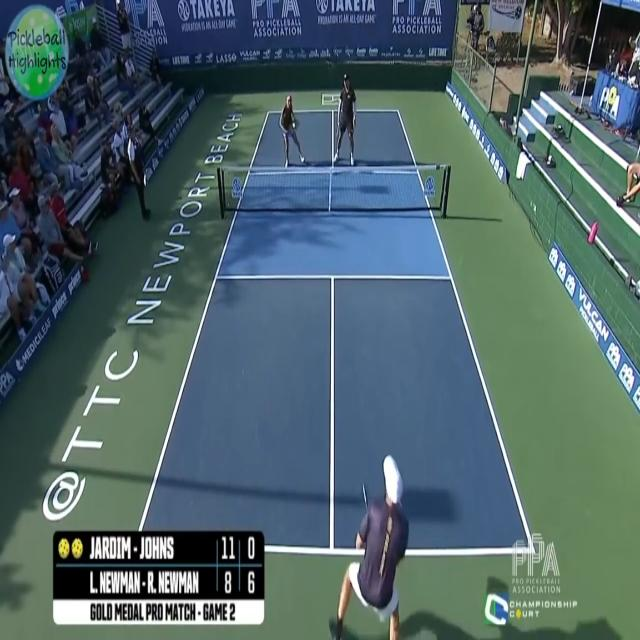Court: (135, 111, 533, 553)
